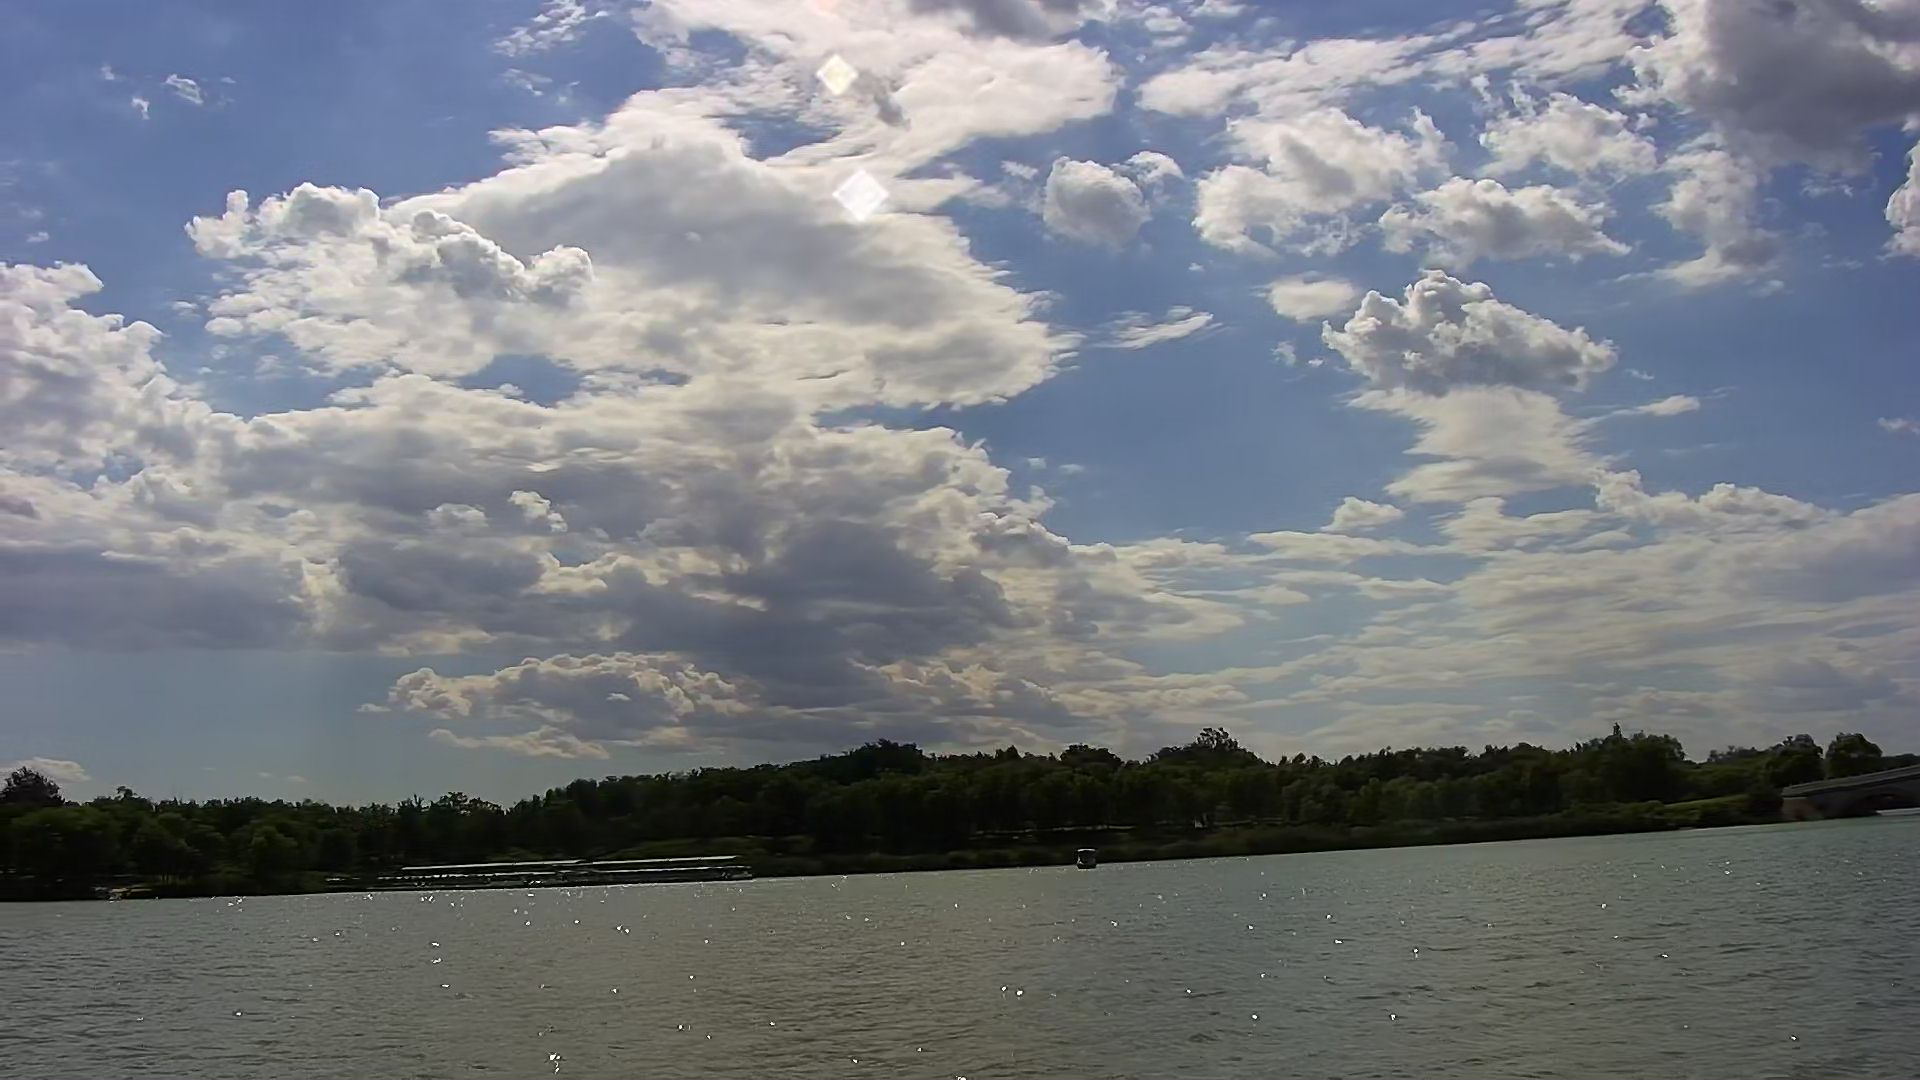boat: (1073, 843, 1102, 870)
bridge: (1783, 756, 1920, 823)
harbor: (400, 843, 756, 894)
